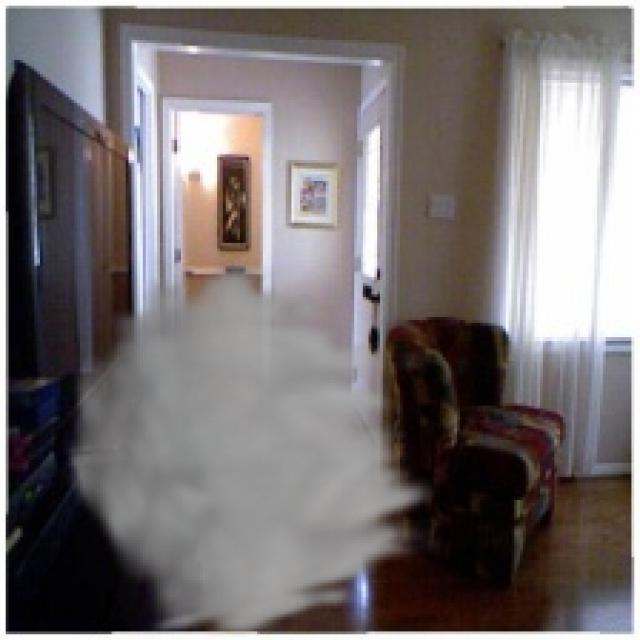Smoke: (60, 257, 449, 637)
